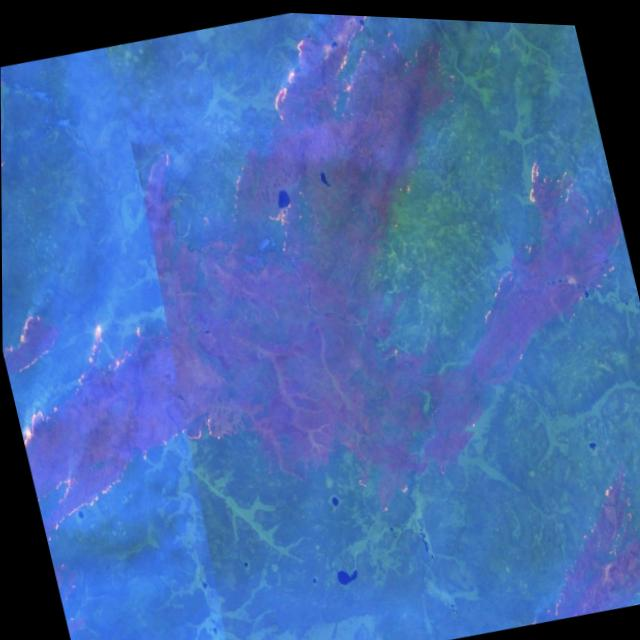fire: (436, 131, 636, 351), (2, 300, 108, 533), (244, 9, 414, 154), (560, 454, 640, 605), (108, 399, 243, 478), (337, 439, 454, 530), (68, 304, 139, 384)
